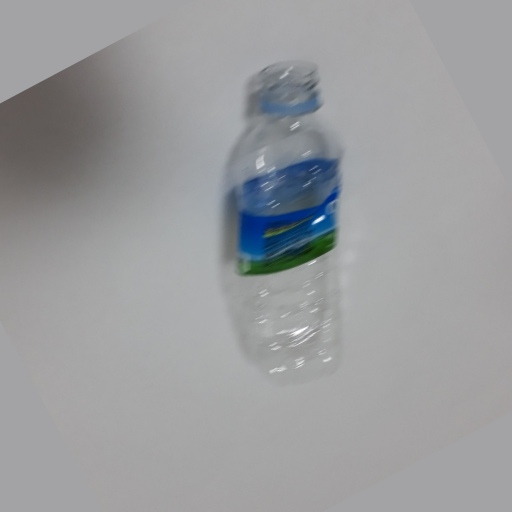Plastic_0: (228, 61, 346, 385)
